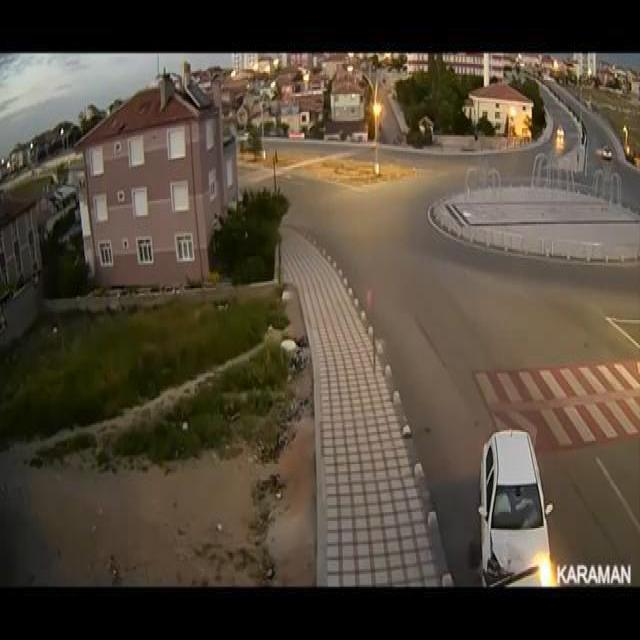moderate: (475, 423, 558, 590)
